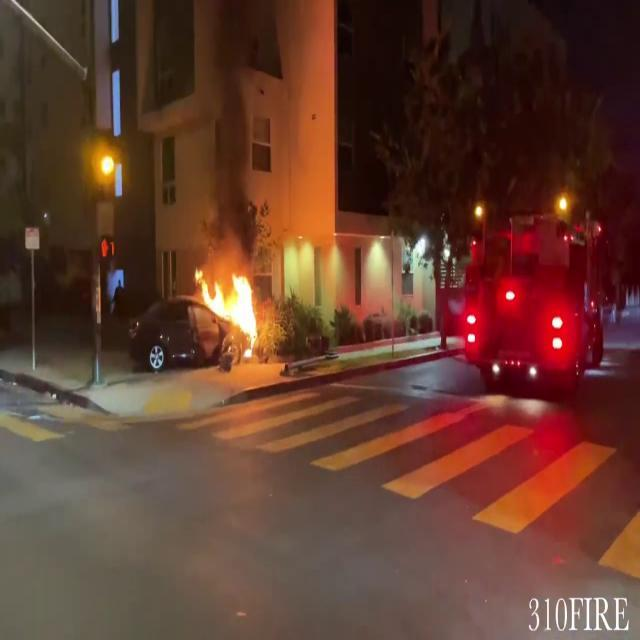Fire: (194, 261, 264, 352)
Smoke: (182, 0, 264, 246)
